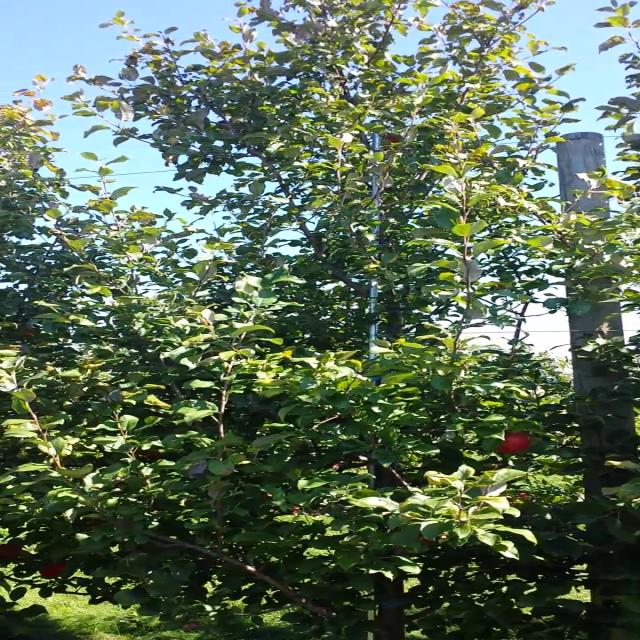apple: (497, 432, 533, 455), (42, 563, 62, 579), (1, 544, 23, 558), (383, 135, 401, 143)
